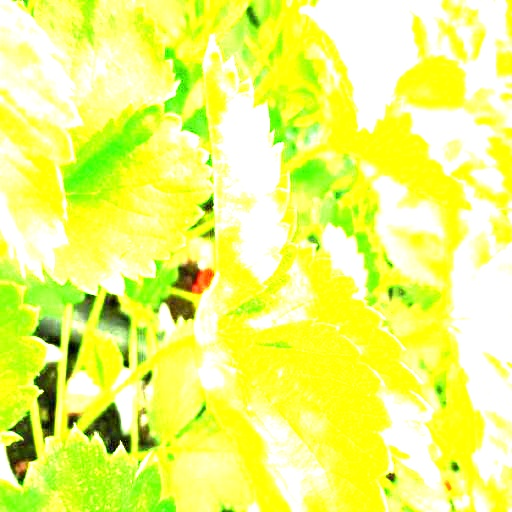Powdery Mildew Leaf: (203, 31, 300, 324)
